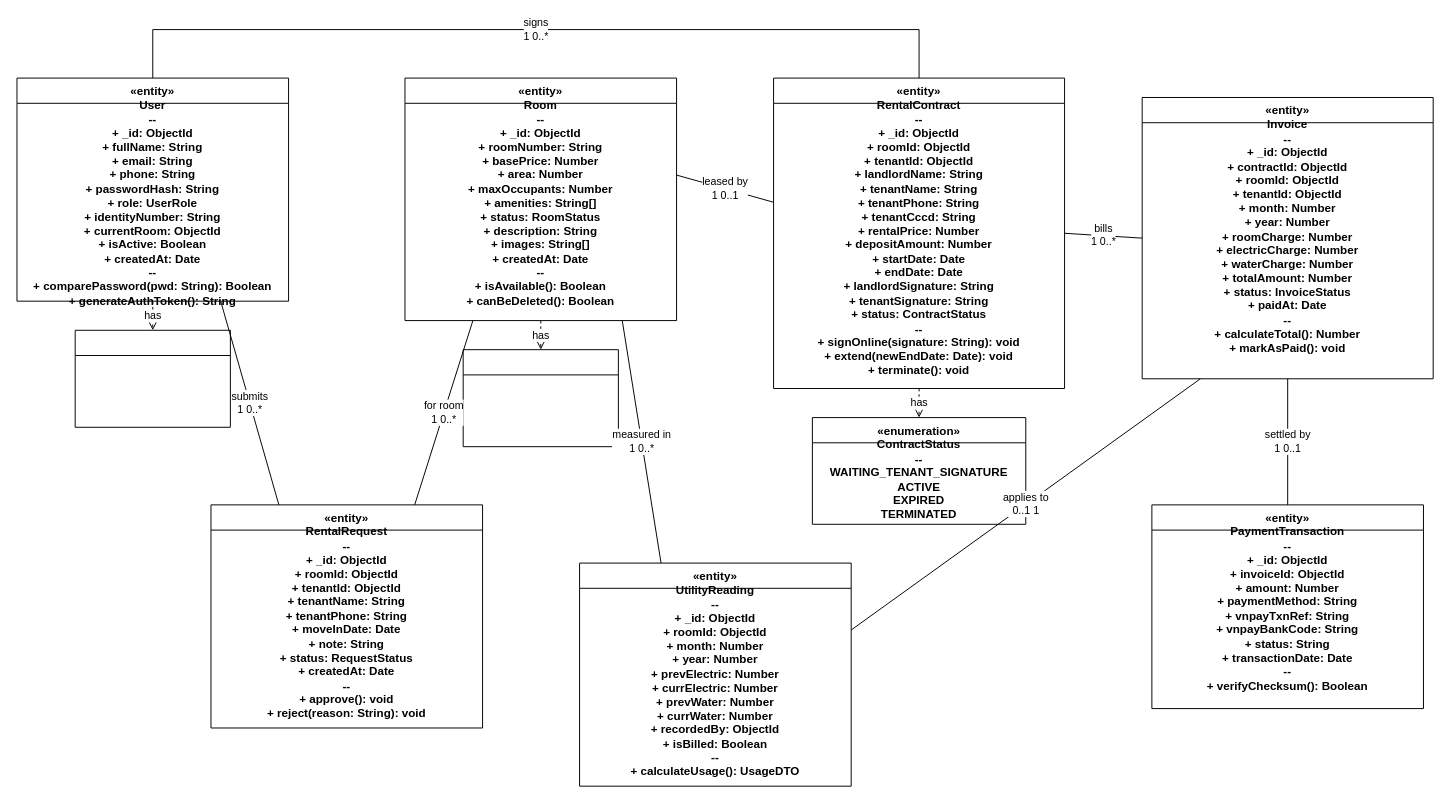
The diagram is 1450 pixels wide and 803 high, and some of its shapes have lost their labels. The box of each missing label's shape, as (x1, y1, x2, y2) in pixels:
«enumeration» RoomStatus -- AVAILABLE RENTED MAINTENANCE: (462, 349, 618, 447)
«enumeration» UserRole -- MANAGER STAFF TENANT: (74, 329, 230, 427)
